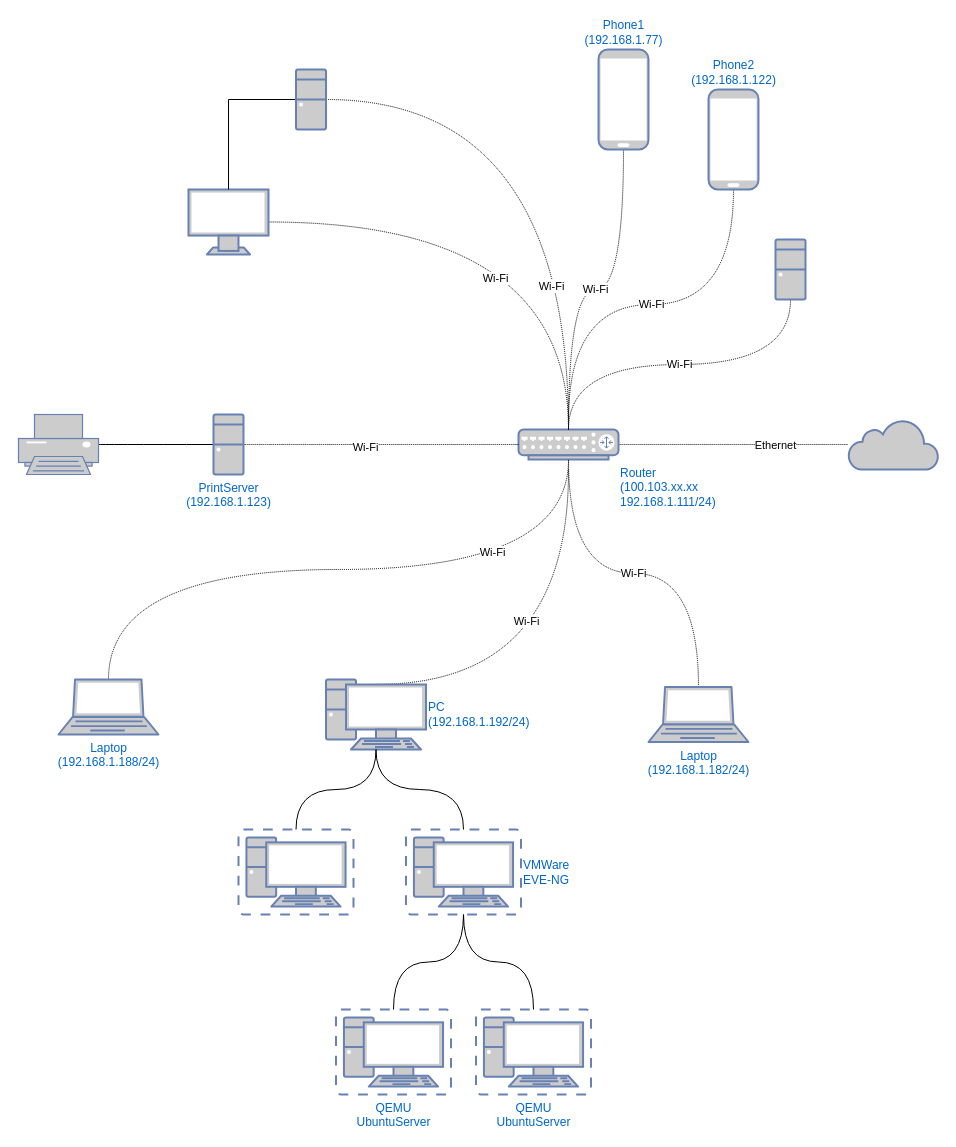
Image size: 956x1147. Some labels were removed from this diagram. The shapes that lost their labels are listed below. From the top down, each one's centre as x and y in pixels, then its label:
At pixel 310 99: "Parpberrypi (192.168.1.114/24)".
At pixel 228 221: "TV (192.168.1.149)".
At pixel 790 269: "YandexStation (192.168.1.184)".
At pixel 893 444: "Internet".
At pixel 295 871: "VirtualBox ubuntu (192.168.1.10/24)".
